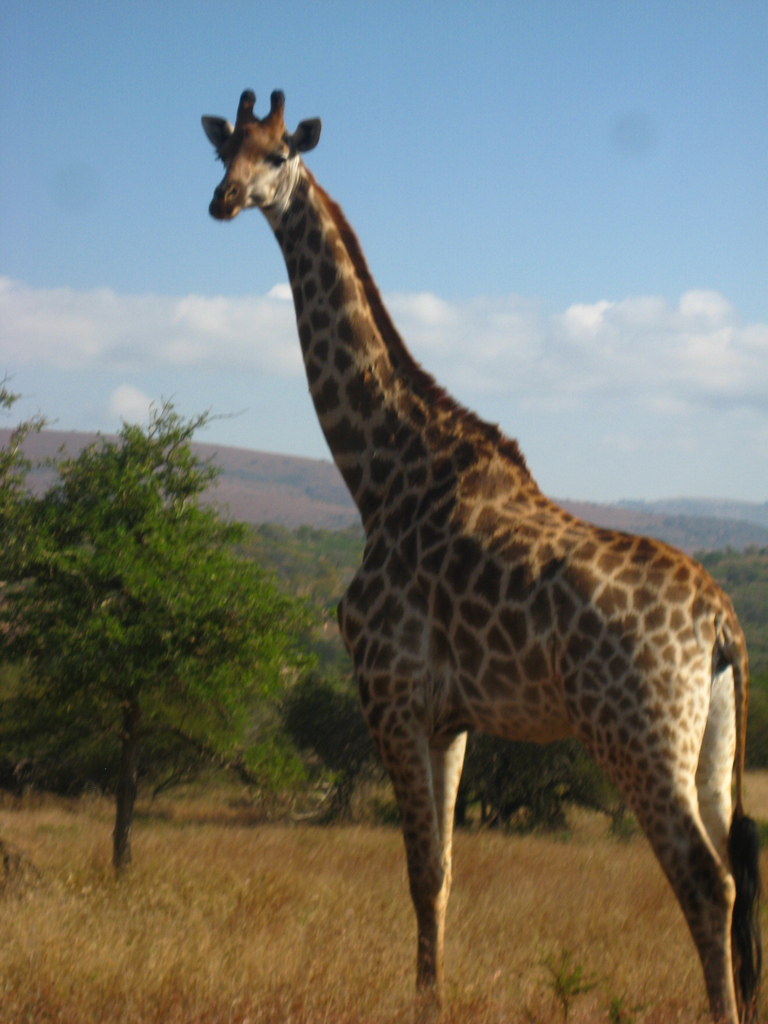giraffe: (156, 82, 755, 981)
